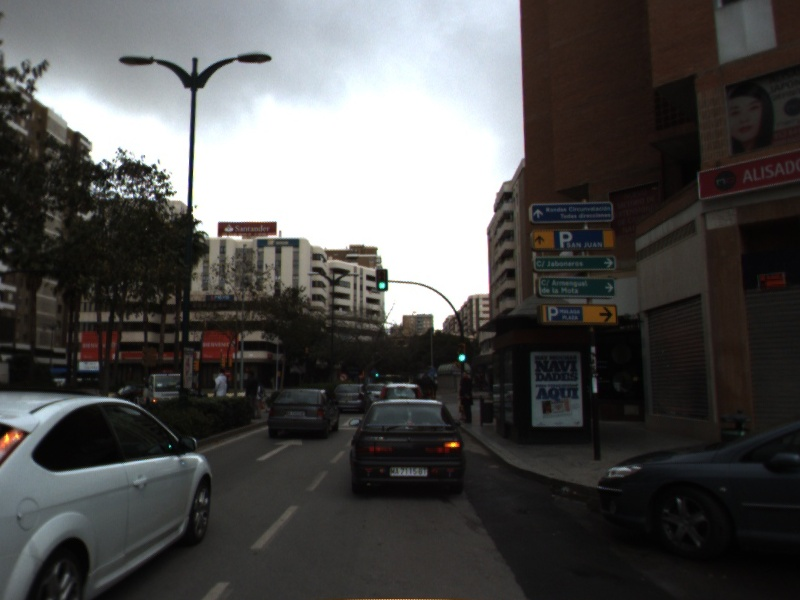STRAIGHT: (254, 437, 305, 462)
